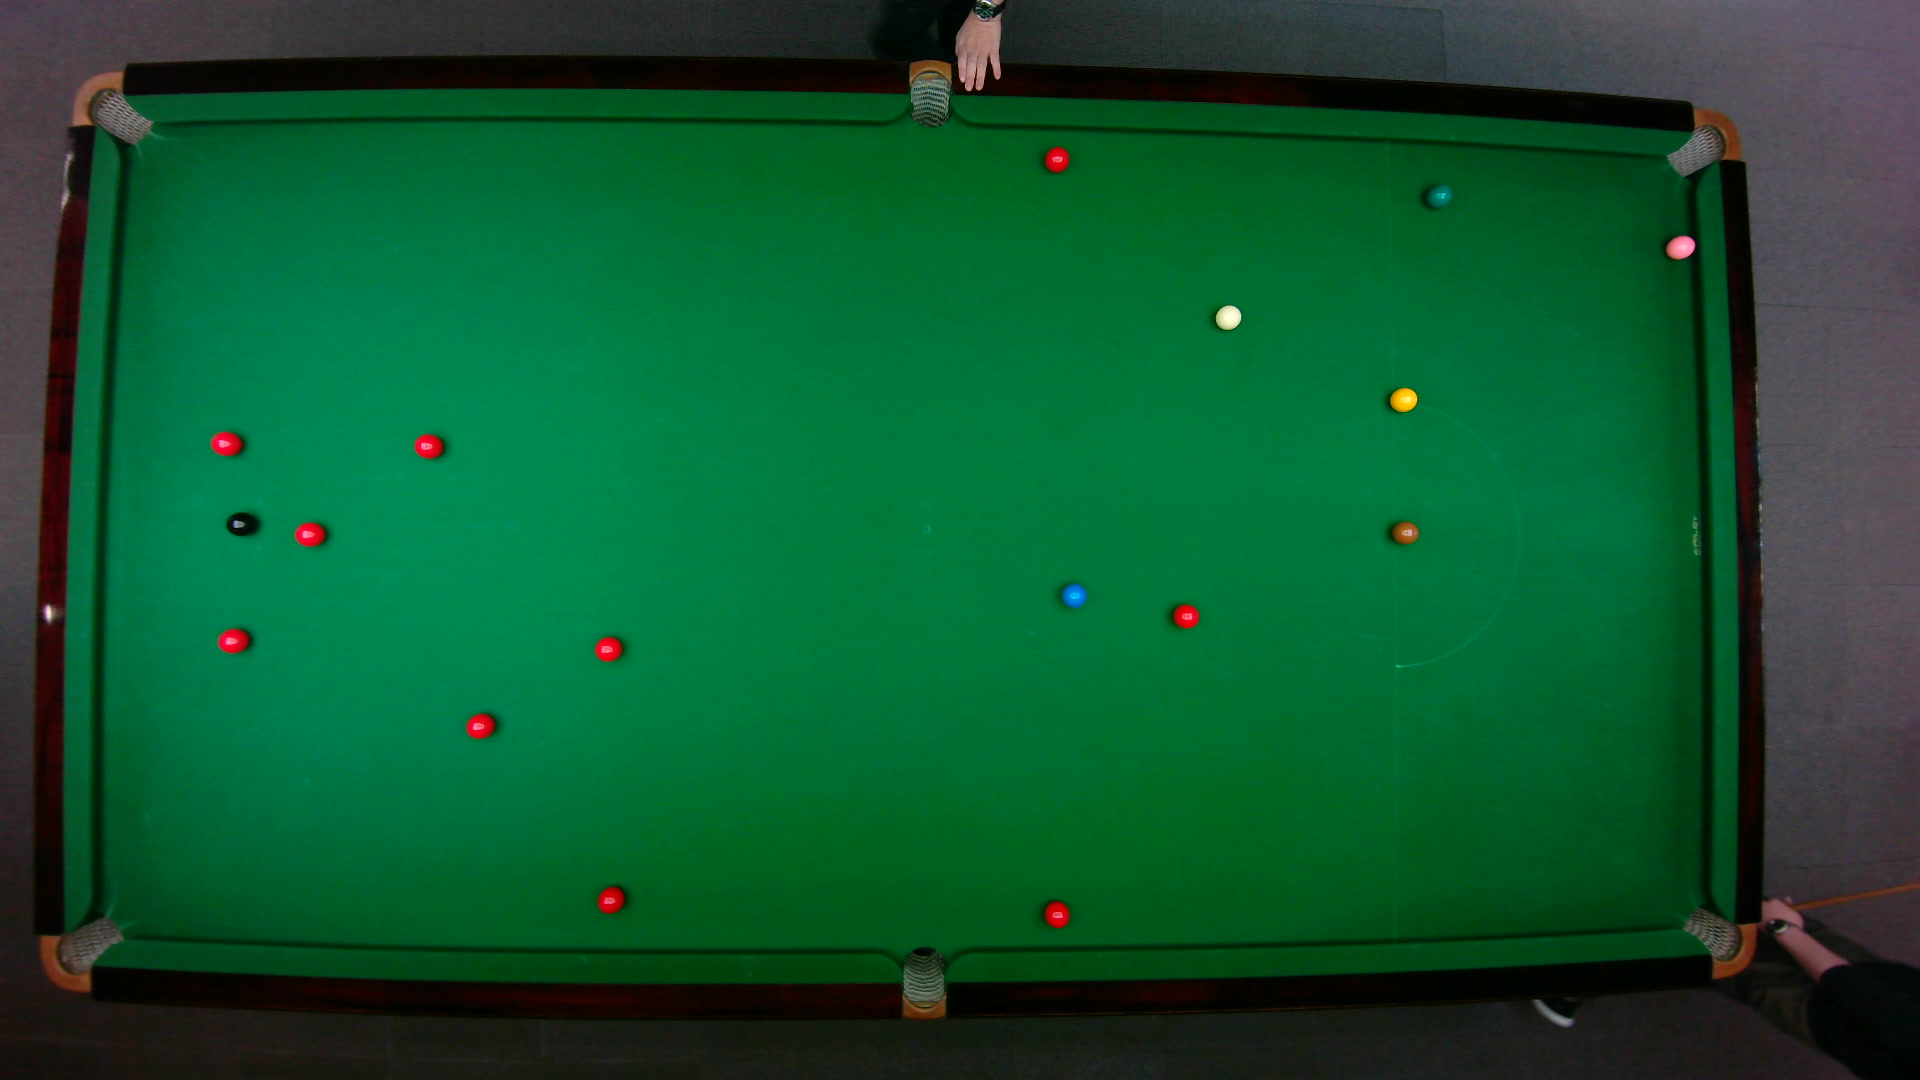bag: (38, 914, 125, 993), (69, 69, 153, 145), (1679, 905, 1756, 978), (1663, 107, 1741, 177), (901, 944, 944, 1021), (909, 57, 951, 127)
black: (223, 509, 256, 535)
blue: (1059, 582, 1087, 608)
brown: (1389, 520, 1419, 545)
green: (1422, 182, 1453, 208)
pink: (1663, 232, 1697, 260)
red: (208, 429, 243, 458), (215, 626, 251, 654), (463, 711, 496, 740), (291, 520, 326, 547), (595, 884, 625, 914), (411, 433, 444, 459), (592, 634, 622, 662), (1043, 899, 1071, 928), (1171, 603, 1201, 629), (1043, 145, 1069, 173)
white: (1212, 302, 1242, 330)
yellow: (1387, 385, 1418, 411)
zone: (1390, 401, 1520, 669)
